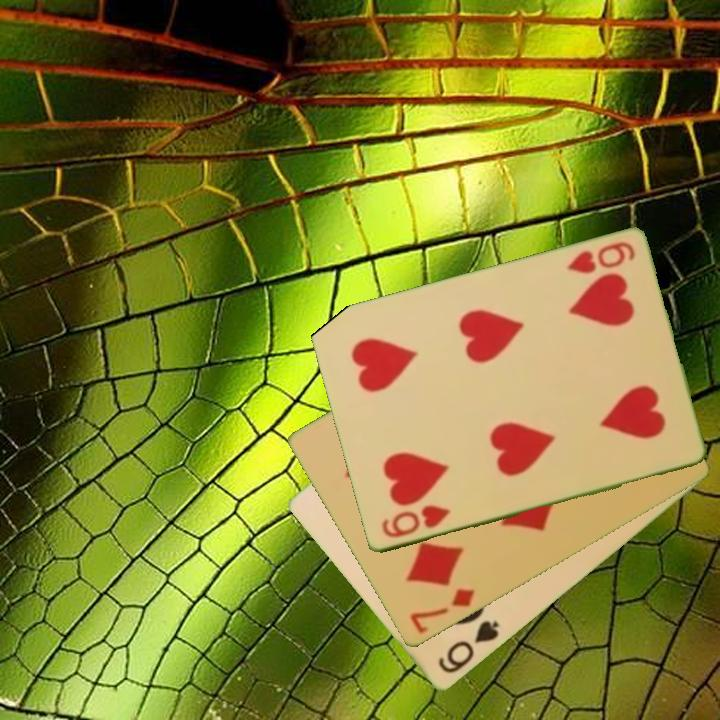6h: (377, 501, 453, 541), (563, 238, 638, 278)
6s: (434, 617, 502, 677)
7d: (406, 585, 478, 638)
